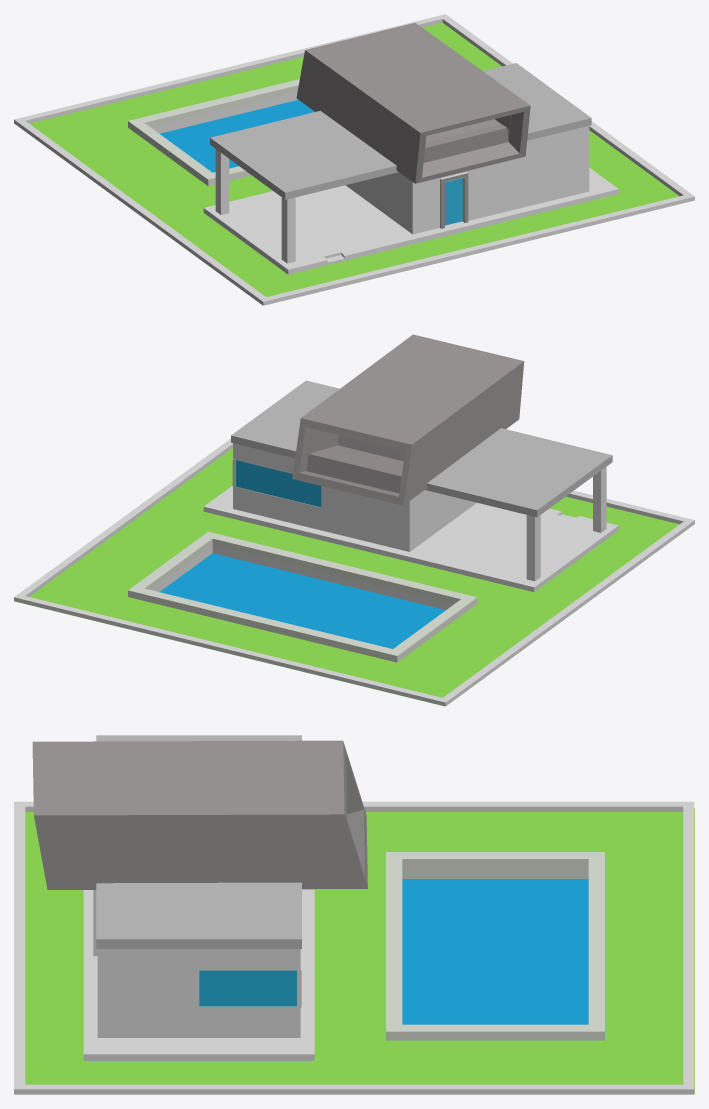
Rendered from mhome.fbx.
3 renders of one model, top to bottom at view 1: azimuth 30°, elevation 25°; view 2: azimuth 150°, elevation 25°; view 3: azimuth 270°, elevation 25°, orthographic. The views are drawn at different scales.
Visible parts, largest first — view 1: Plane, Cube.002, Cube.001, Plane.001, Plane.007, Cube, Plane.002, Cube.011, Plane.003, Cube.004, Cube.003, Cube.010 (+1 smaller); view 2: Plane, Cube.002, Cube.001, Plane.001, Cube.011, Plane.007, Plane.002, Cube, Plane.003, Cube.007, Cube.003, Cube.004; view 3: Plane, Cube.002, Cube.011, Plane.007, Cube.001, Cube, Plane.002, Plane.001, Cube.006.
Part boxes in pixels (x1,y1,x2,y2): Plane: (29, 23, 679, 296); Cube.002: (296, 22, 530, 183); Cube.001: (210, 63, 591, 199); Plane.001: (203, 168, 618, 274); Plane.007: (14, 14, 694, 305); Cube: (345, 126, 589, 234); Plane.002: (128, 79, 299, 186); Cube.011: (159, 100, 314, 172); Plane.003: (151, 92, 297, 133); Cube.004: (281, 197, 295, 263); Cube.003: (215, 149, 229, 214); Cube.010: (445, 178, 462, 225); Plane: (15, 448, 679, 706); Cube.002: (292, 334, 524, 505); Cube.001: (231, 380, 612, 517); Plane.001: (203, 486, 618, 592); Cube.011: (159, 553, 445, 648); Plane.007: (14, 438, 694, 706); Plane.002: (128, 531, 477, 662); Cube: (233, 443, 476, 551); Plane.003: (151, 545, 453, 609); Cube.007: (236, 460, 321, 507); Cube.003: (526, 515, 540, 581); Cube.004: (593, 467, 606, 532); Plane: (25, 808, 694, 1093); Cube.002: (32, 740, 367, 889); Cube.011: (402, 879, 588, 1024); Plane.007: (14, 801, 694, 1094); Cube.001: (96, 735, 301, 948); Cube: (93, 890, 300, 1037); Plane.002: (386, 852, 604, 1040); Plane.001: (83, 889, 314, 1060); Cube.006: (199, 970, 296, 1006).
Bounding box in the file's own units: 590 × 202 × 590.
